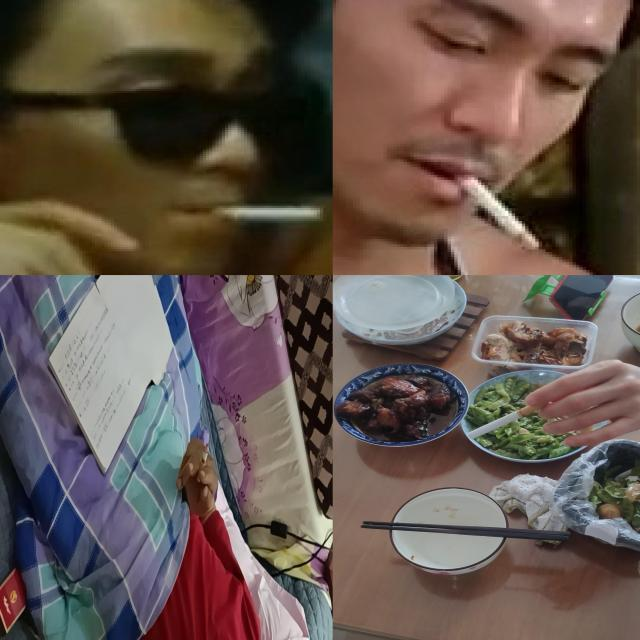smoking: (448, 166, 541, 250), (468, 400, 551, 440), (200, 205, 326, 225), (196, 444, 208, 484)
